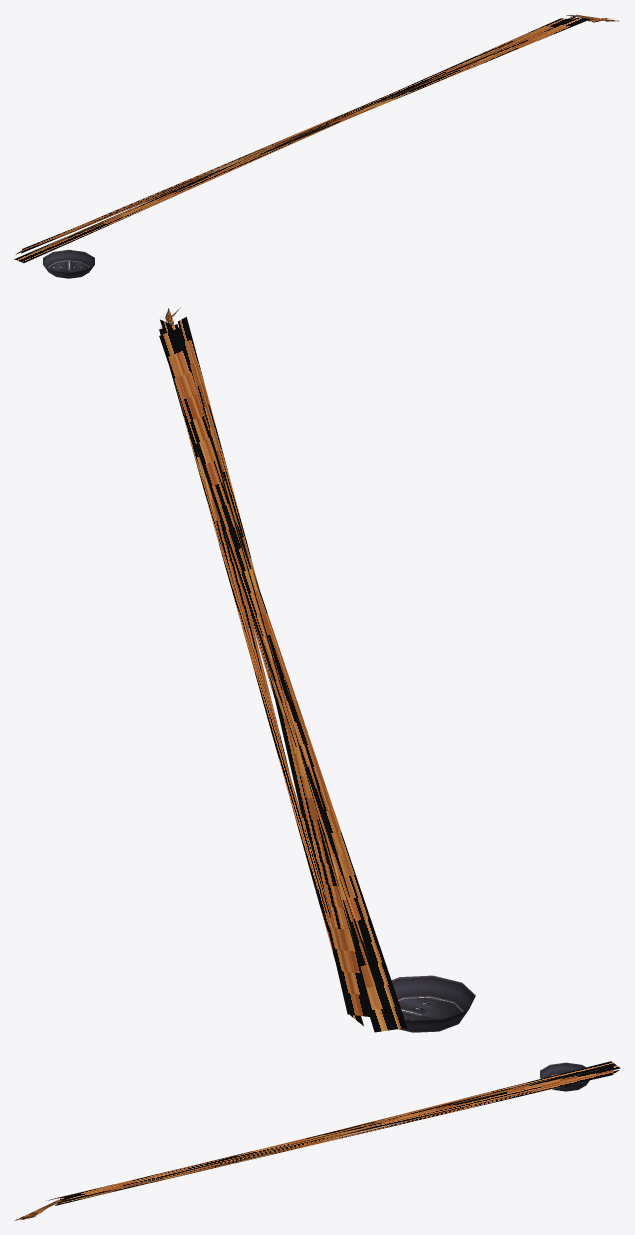
The picture shows the model from 3 angles, top to bottom: view 1: azimuth 90°, elevation 25°; view 2: azimuth 150°, elevation 25°; view 3: azimuth 270°, elevation 25°; orthographic projection. The views are drawn at different scales.
Parts seen in each view (by area): view 1: 1061item532; view 2: 1061item532; view 3: 1061item532.
Part boxes in pixels (<box>): 1061item532: <box>14,14,618,278</box>; 1061item532: <box>159,307,475,1032</box>; 1061item532: <box>15,1061,620,1220</box>.
Bounding box in the file's own units: 9.08 × 1.42 × 11.3.
2 materials, 2 textured.
